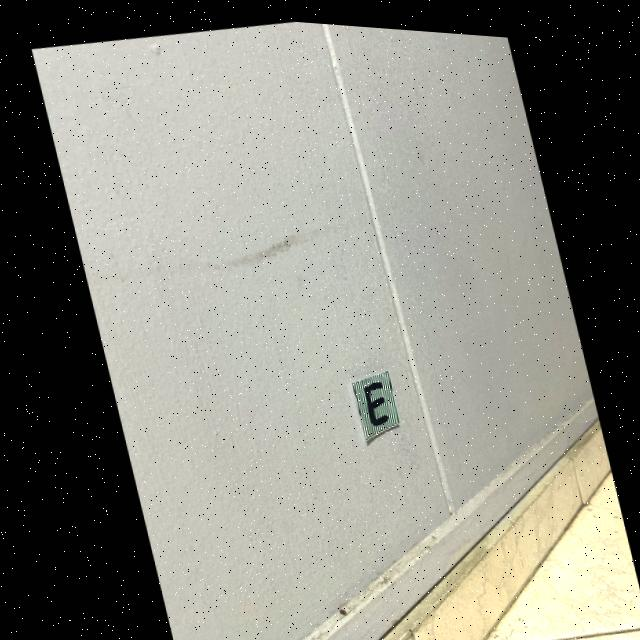E: (359, 376, 383, 420)
